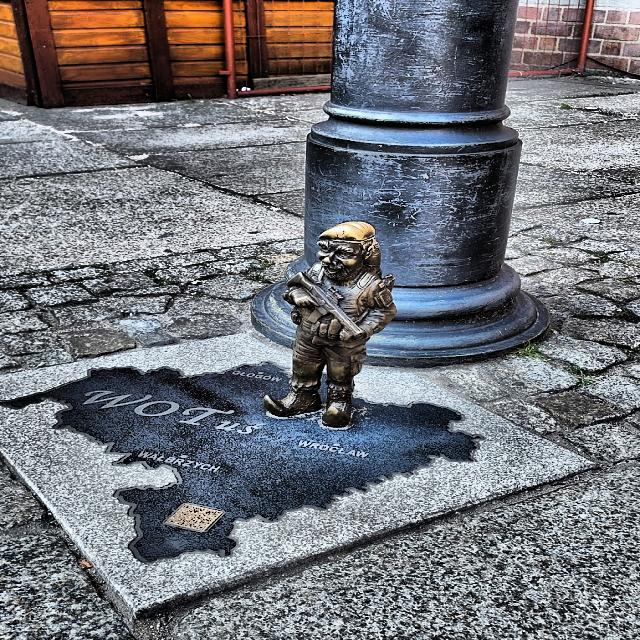WOTus: (263, 221, 397, 428)
